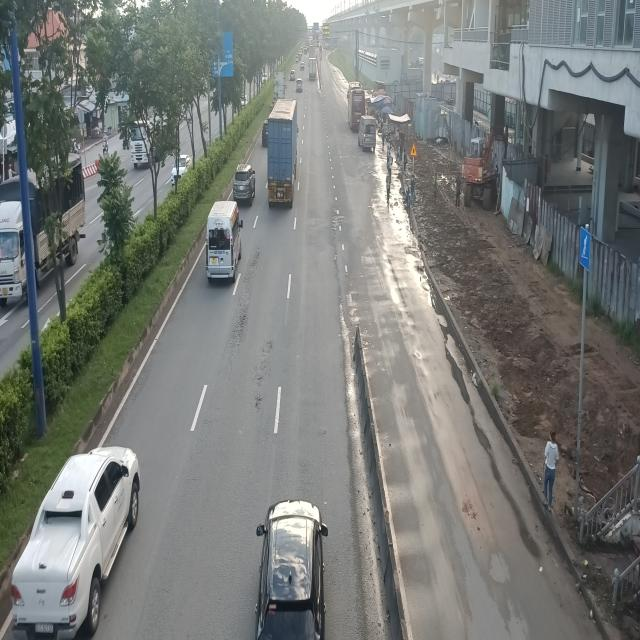car: (13, 449, 144, 640), (253, 500, 329, 640), (233, 162, 258, 206)
coach: (347, 82, 366, 130)
container: (266, 102, 299, 210)
van: (204, 199, 242, 282), (357, 114, 377, 152)
